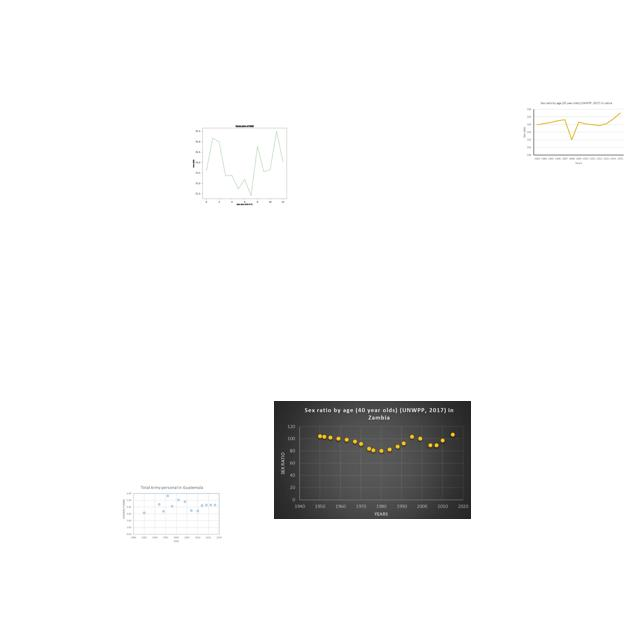Graph: (274, 401, 471, 519), (176, 117, 310, 209), (521, 100, 626, 166), (122, 485, 223, 544)
